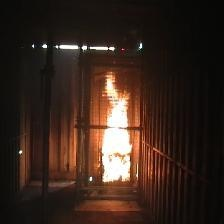fire: (98, 69, 139, 184)
